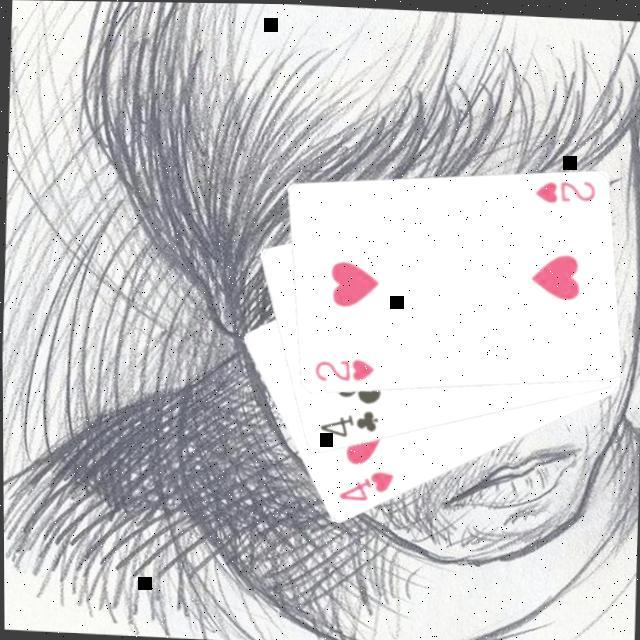2H: (527, 172, 595, 205), (307, 351, 374, 384)
4C: (312, 402, 379, 440)
4H: (332, 462, 394, 503)
